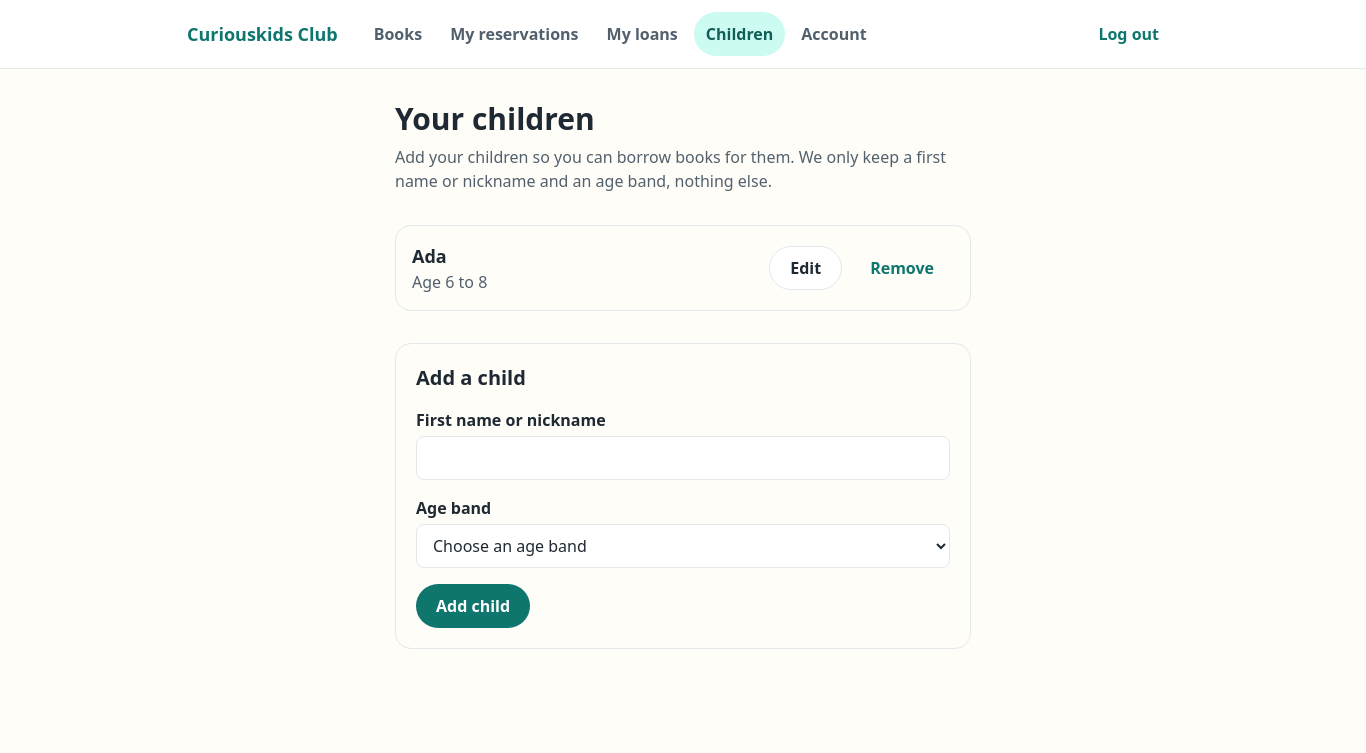
Test: Your children page › FR-ID-05: changes a child, sending only the name and age band
Click the button with aria-label "Edit Ada" at [806, 268], box [769,246,842,290]
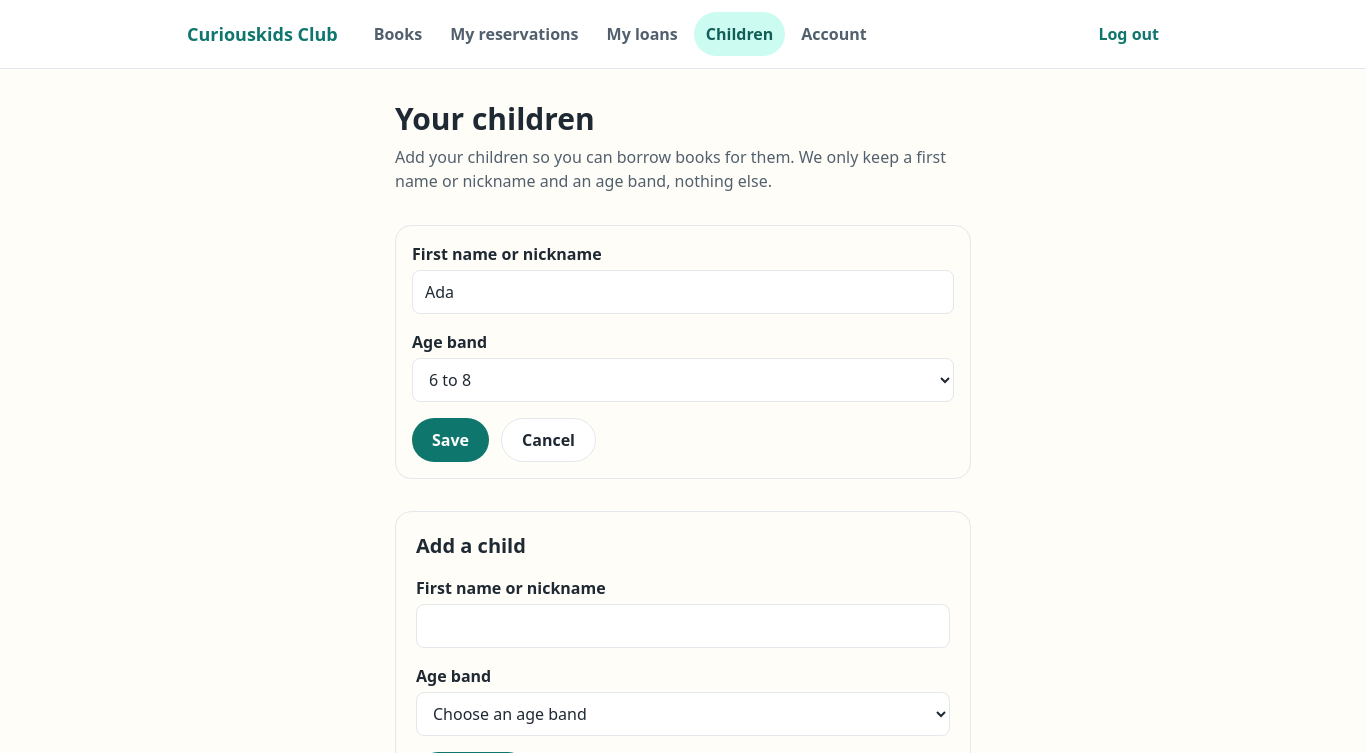
Replace the text in the 1st field labelled "First name or nickname" with "Addie" at [683, 292], box [412,270,954,314]
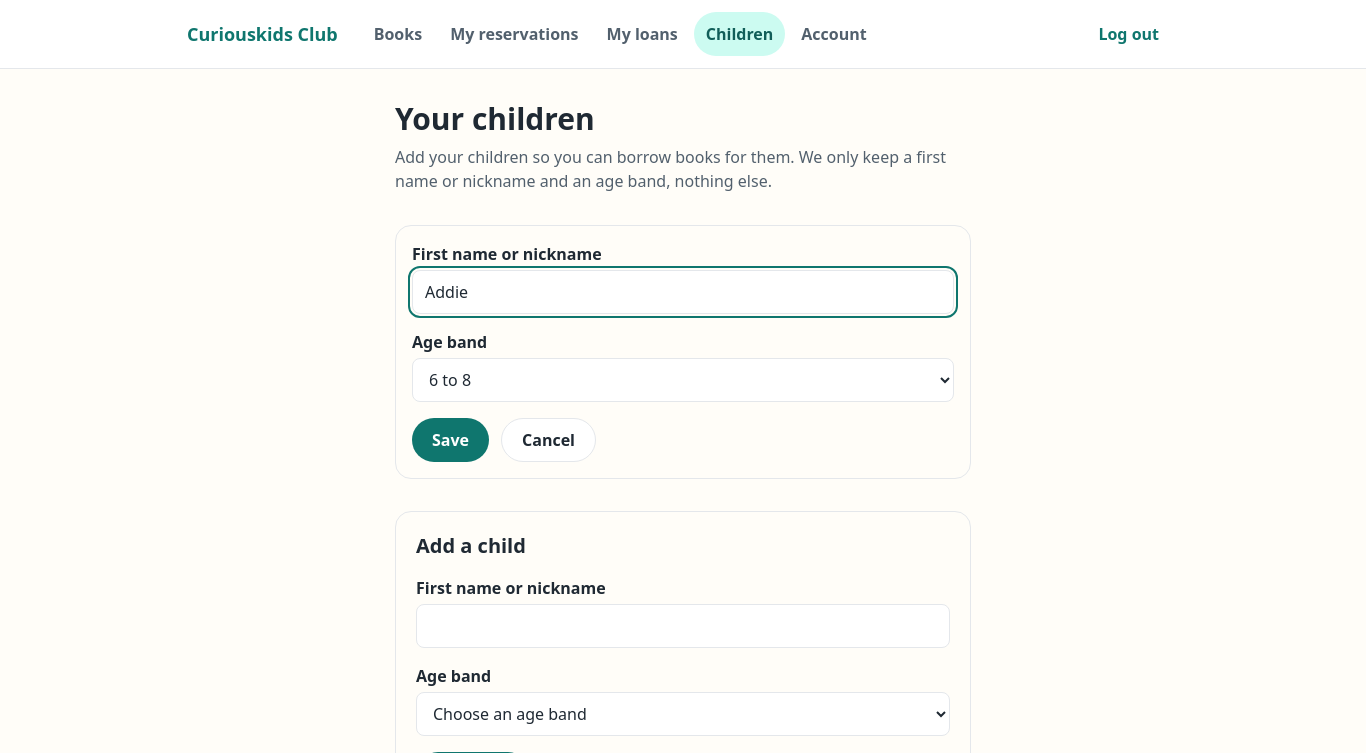
Select "9 to 12" in the 1st dropdown labelled "Age band" at [683, 380], box [412,358,954,402]
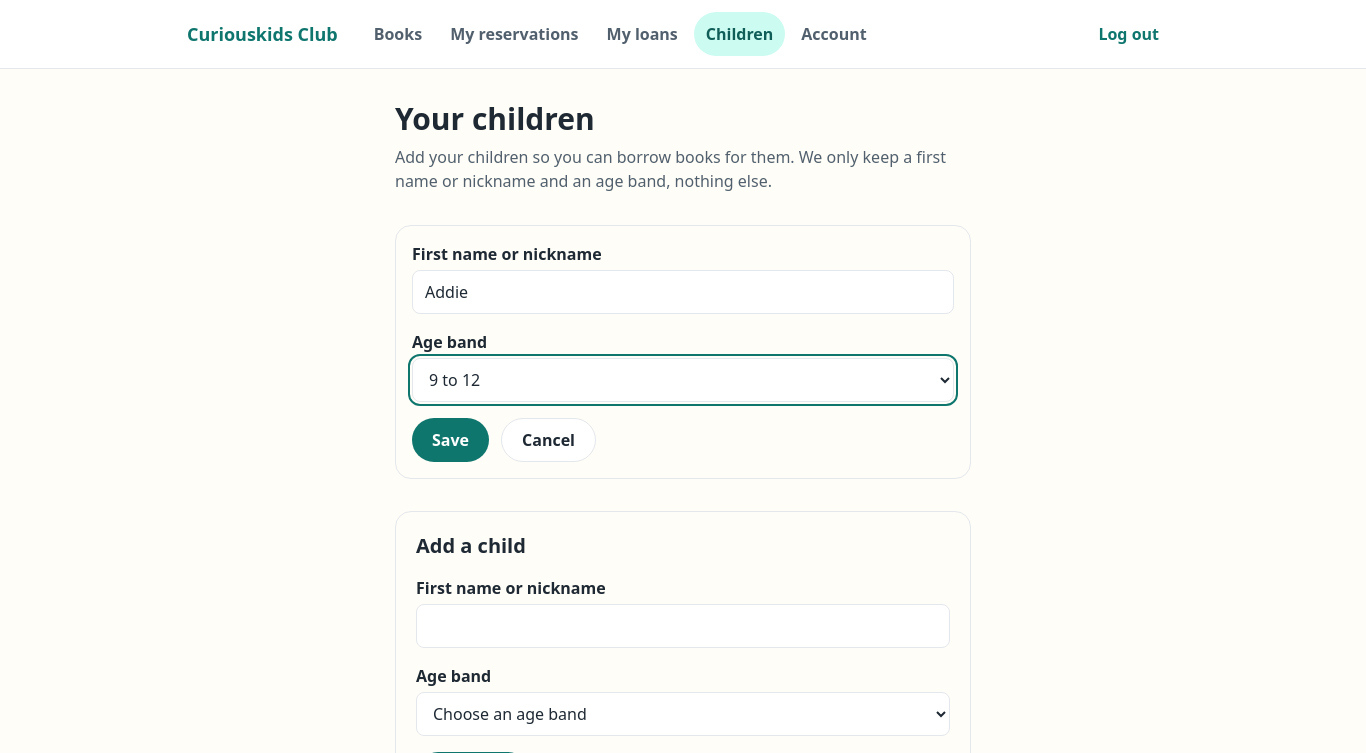
Click the button "Save" at [450, 440], box [412,418,489,462]
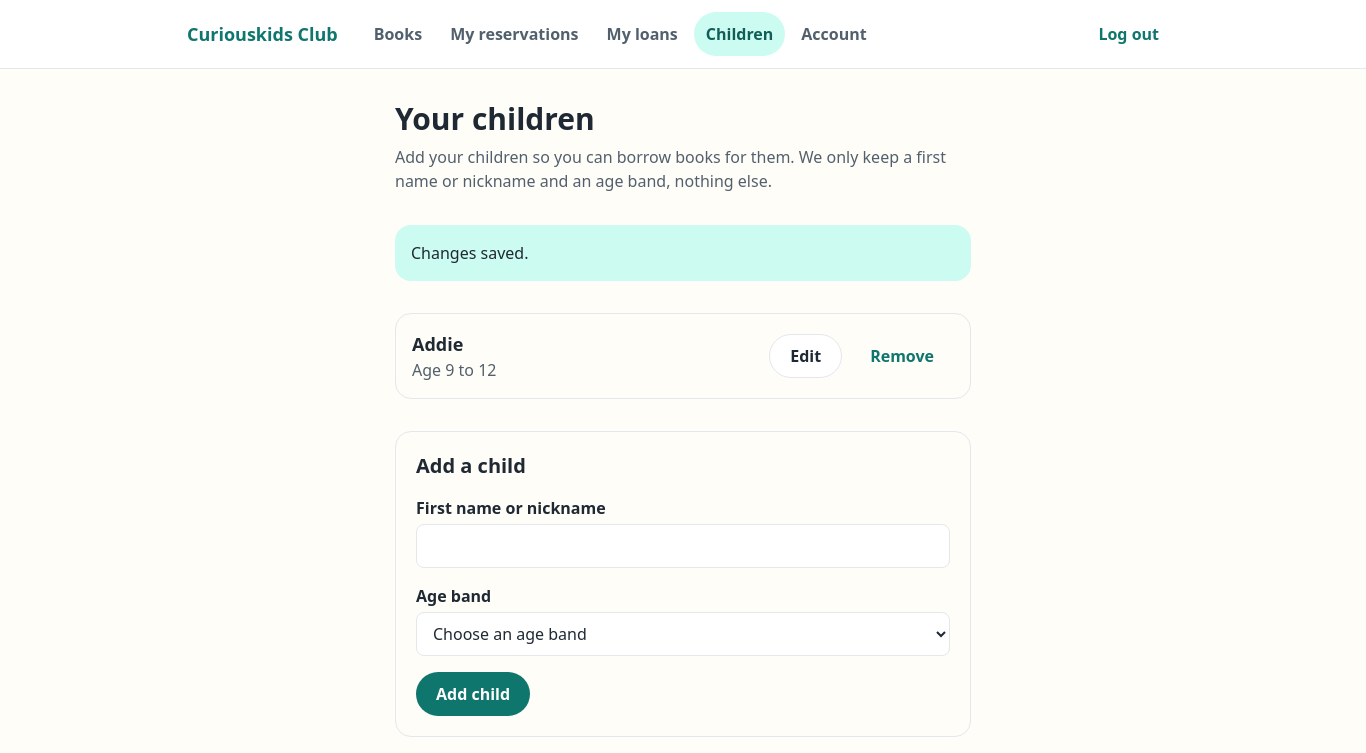
Result: the text "Changes saved." is shown at [395,225,971,281]
Result: the text "Addie" is shown at [412,332,463,356]
Result: the text "Age 9 to 12" is shown at [412,359,496,381]
